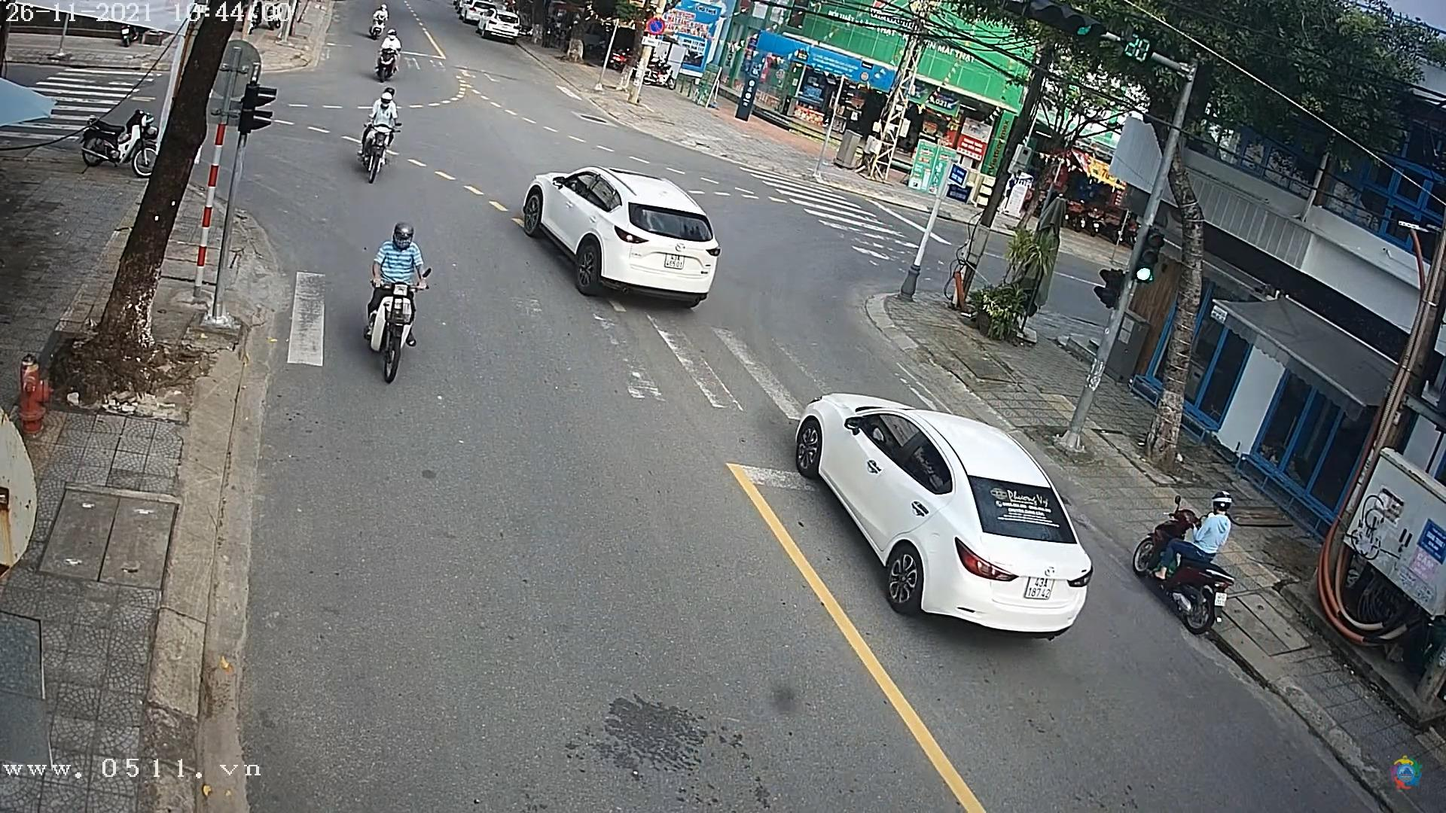car: (796, 394, 1099, 635), (519, 163, 727, 304)
motorbike: (1134, 495, 1233, 636), (366, 268, 428, 382), (358, 108, 400, 185), (374, 44, 405, 86)
